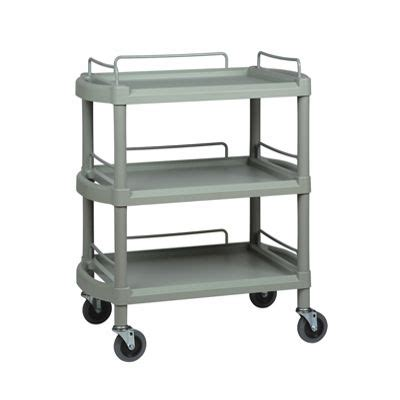Carts: (72, 51, 329, 362)
